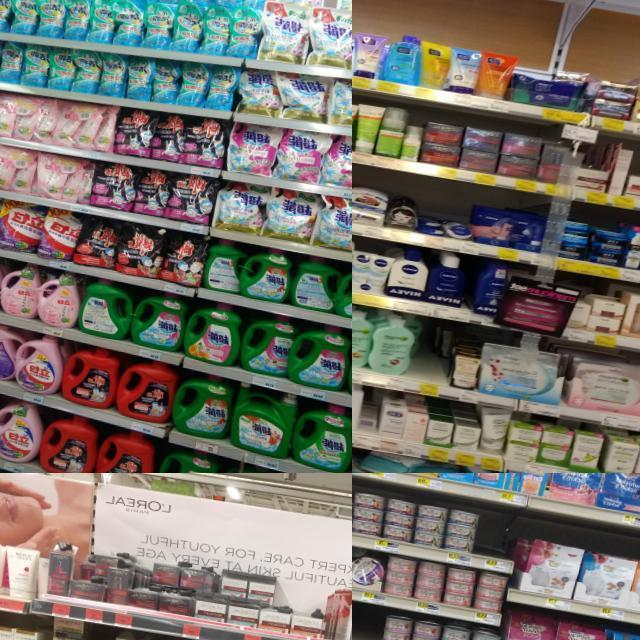Imprecise: (412, 313, 456, 382)
